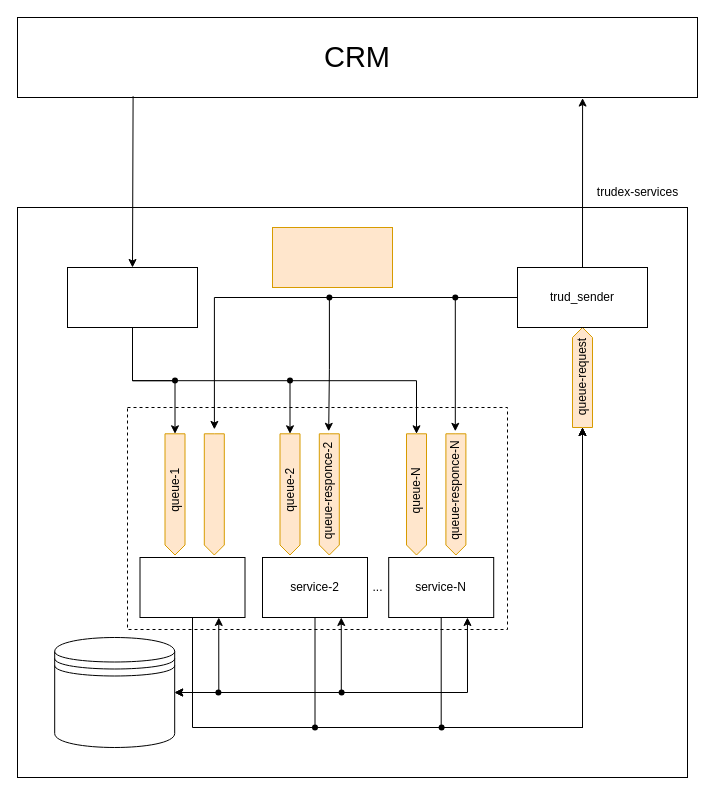
Some shapes in this 715 by 795 pixel diagram are drawn without their labels. Each missing label, with the box of its shape:
jobs db: (54, 636, 175, 748)
queue-responce-1: (203, 433, 224, 555)
rammitMQ: (272, 226, 392, 288)
service-1: (139, 556, 245, 618)
trud_distributor: (66, 266, 198, 328)
